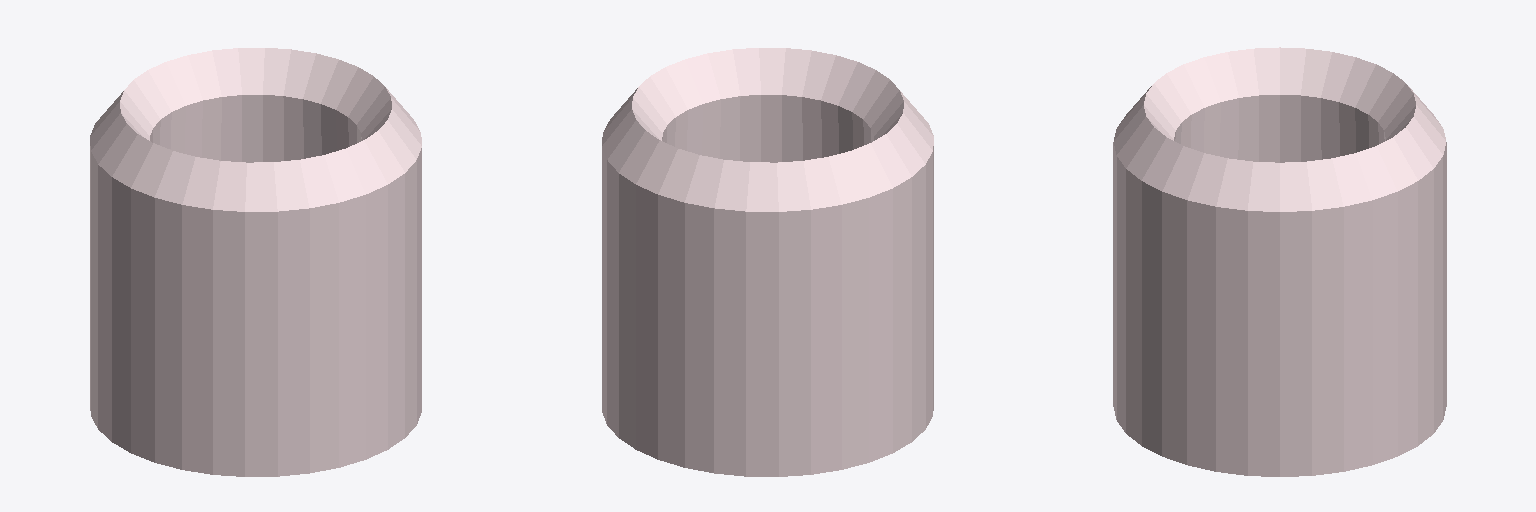
File: trash-can.obj
3 views of the same model, side by side, from view 1: azimuth 30°, elevation 25°; view 2: azimuth 150°, elevation 25°; view 3: azimuth 270°, elevation 25° (orthographic).
Parts seen in each view (by area): view 1: Cylinder; view 2: Cylinder; view 3: Cylinder.
Boxes of the visible parts, <box> form: Cylinder: <box>90,48,421,476</box>; Cylinder: <box>602,48,933,476</box>; Cylinder: <box>1113,47,1446,476</box>.
Size of the model in its own units: 0.8002 by 0.8 by 0.8002.